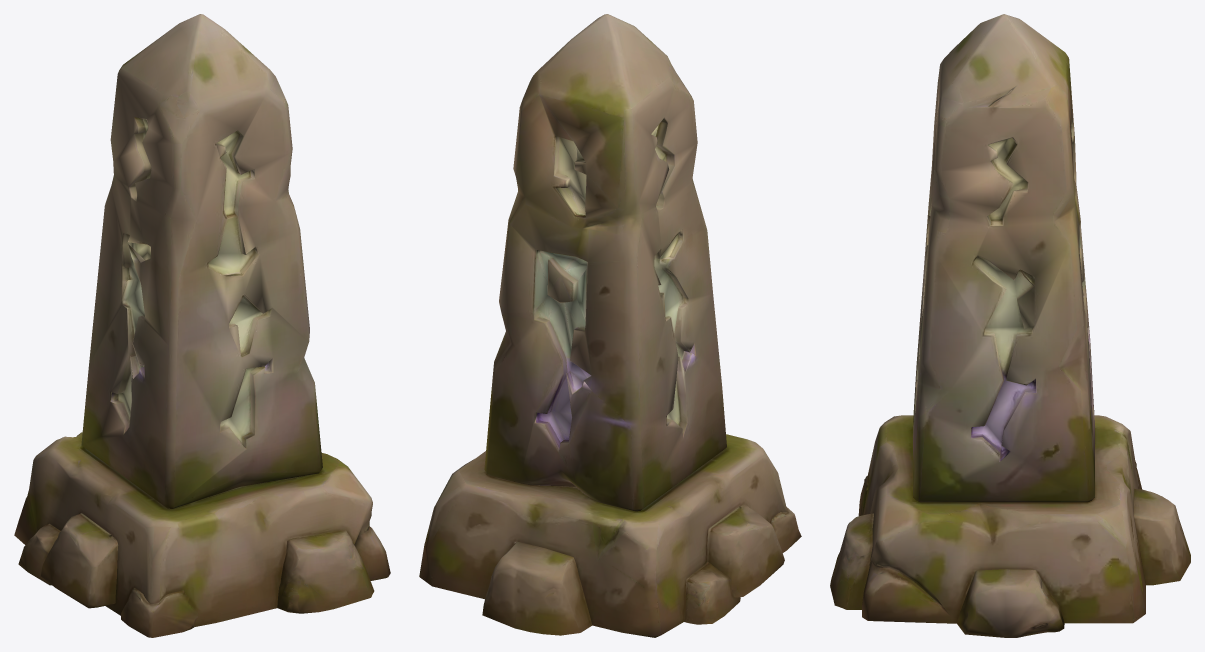
Rendered from shield.glb.
3 views of the same model, side by side, from view 1: azimuth 30°, elevation 25°; view 2: azimuth 150°, elevation 25°; view 3: azimuth 270°, elevation 25° (orthographic).
Parts seen in each view (by area): view 1: tripo_node_85c114f0-95d9-4db8-a574-66bbf68ab45f; view 2: tripo_node_85c114f0-95d9-4db8-a574-66bbf68ab45f; view 3: tripo_node_85c114f0-95d9-4db8-a574-66bbf68ab45f.
Part boxes in pixels (bbox=[...]): tripo_node_85c114f0-95d9-4db8-a574-66bbf68ab45f: bbox=[14, 14, 390, 637]; tripo_node_85c114f0-95d9-4db8-a574-66bbf68ab45f: bbox=[419, 14, 801, 637]; tripo_node_85c114f0-95d9-4db8-a574-66bbf68ab45f: bbox=[830, 14, 1190, 637].
Size of the model in its own units: 0.5801 by 0.998 by 0.5957.
Materials: 1 (1 with a texture image).
